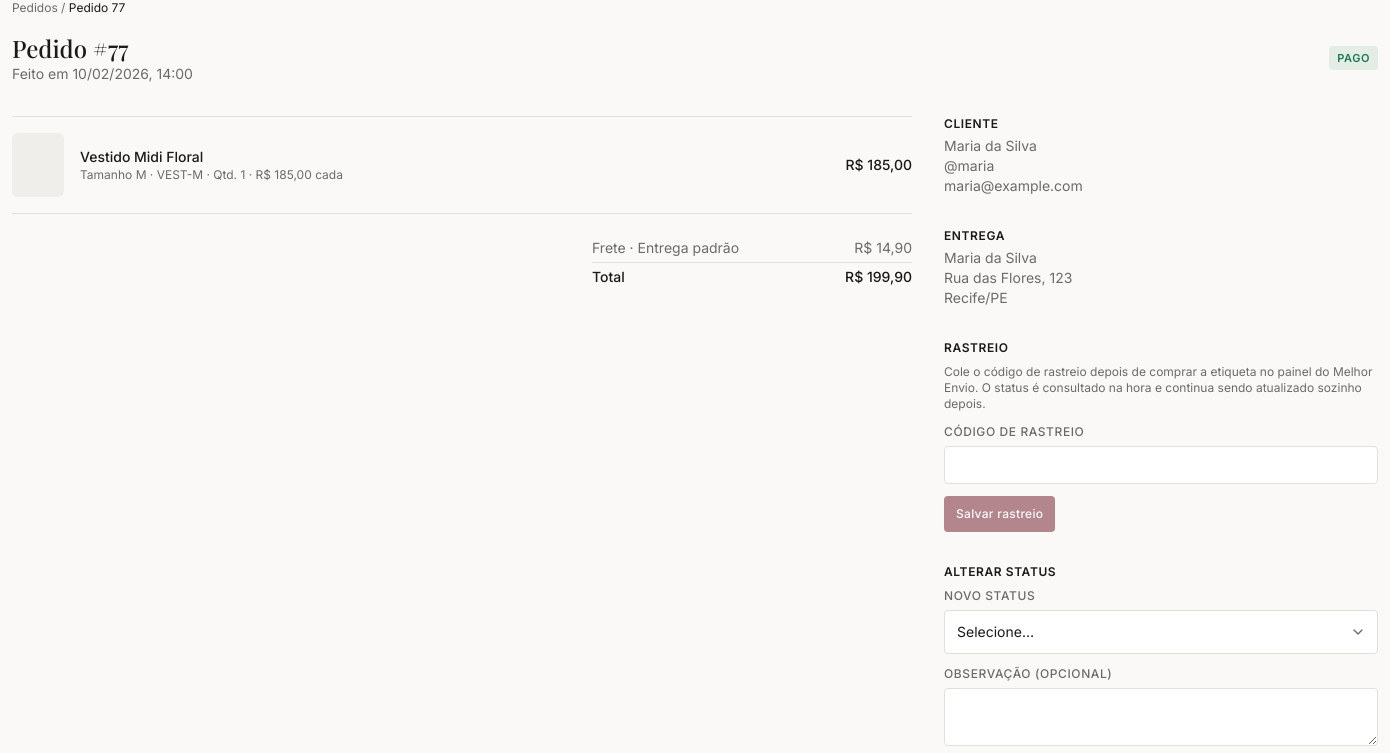
AdminPedidoDetalhe › altera o status e atualiza a tela sem reload
This screenshot has width=1390, height=753.
Expected: the heading "Pedido #77" is shown, [12,32,128,64]
Select "Separando" in the dropdown labelled "Novo status": (1161, 632) [944,610,1378,654]
(page scrolled)
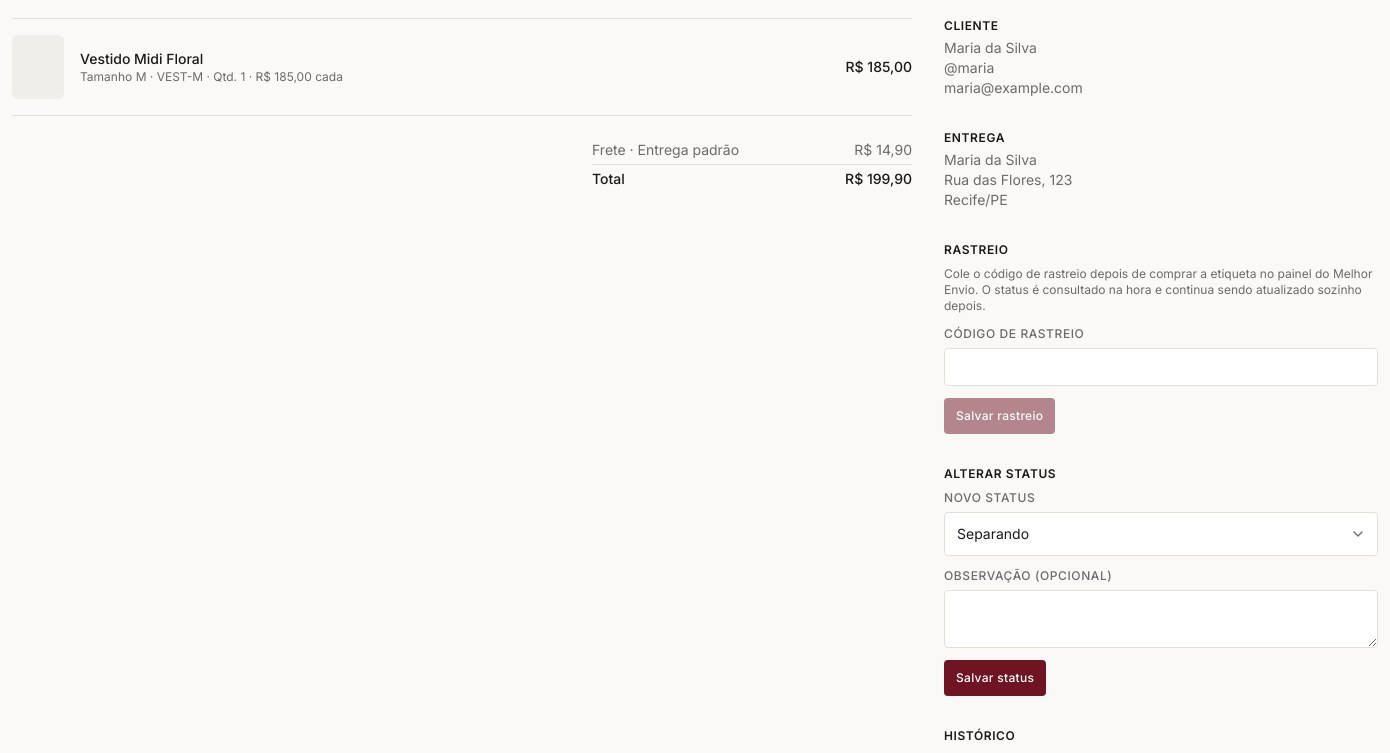
Click the button "Salvar status": (995, 678) [944,660,1046,696]
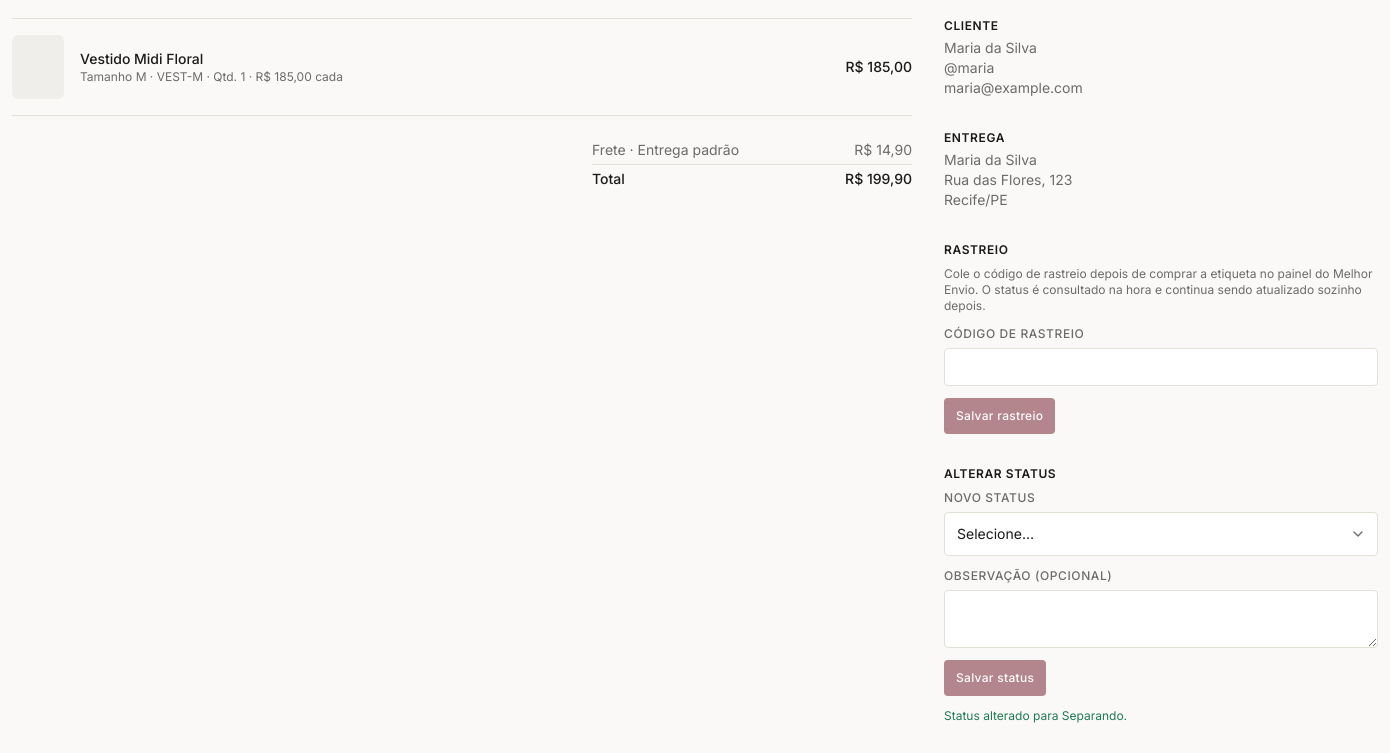
Now the text "Status alterado para Separando." is shown, box [944,708,1127,723]
